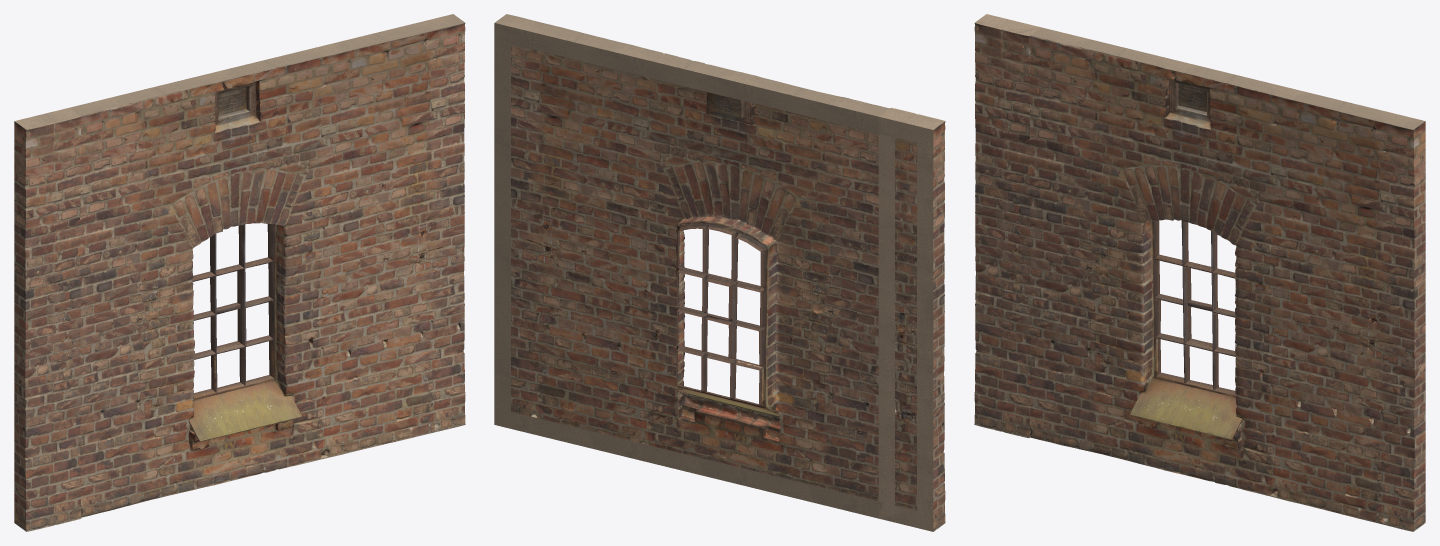
Rendered from window.glb.
3 renders of one model, left to right at view 1: azimuth 30°, elevation 25°; view 2: azimuth 150°, elevation 25°; view 3: azimuth 330°, elevation 25°, orthographic.
Visible parts, largest first — view 1: Aset_building_combined_L_wdhkca2dw_01_LOD0_default_material_, Aset_building_combined_L_wdhkca2dw_00_LOD0_default_material_; view 2: Aset_building_combined_L_wdhkca2dw_01_LOD0_default_material_, Aset_building_combined_L_wdhkca2dw_00_LOD0_default_material_; view 3: Aset_building_combined_L_wdhkca2dw_01_LOD0_default_material_, Aset_building_combined_L_wdhkca2dw_00_LOD0_default_material_.
Part boxes in pixels (x1,y1,x2,y2): Aset_building_combined_L_wdhkca2dw_01_LOD0_default_material_: (14, 14, 465, 528); Aset_building_combined_L_wdhkca2dw_00_LOD0_default_material_: (14, 108, 81, 531); Aset_building_combined_L_wdhkca2dw_01_LOD0_default_material_: (494, 14, 945, 530); Aset_building_combined_L_wdhkca2dw_00_LOD0_default_material_: (878, 108, 945, 531); Aset_building_combined_L_wdhkca2dw_01_LOD0_default_material_: (974, 15, 1425, 531); Aset_building_combined_L_wdhkca2dw_00_LOD0_default_material_: (974, 14, 1040, 437).
Size of the model in its own units: 4 by 3.5 by 0.3764.
1 material, 1 textured.
